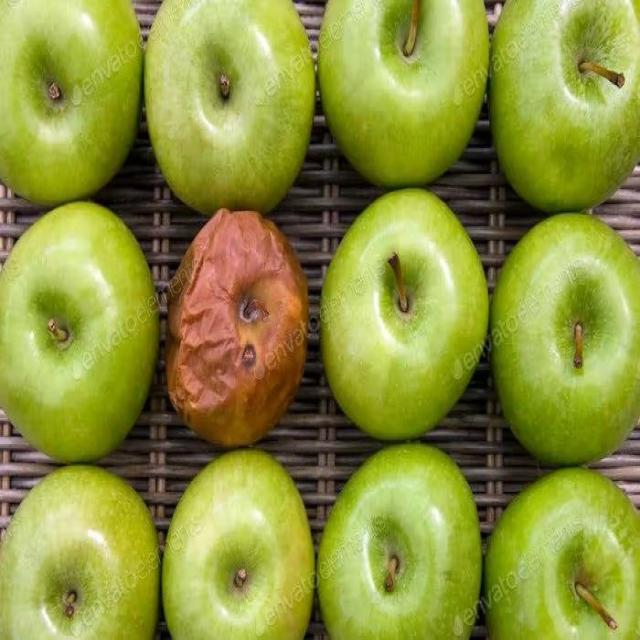Fresh Apple: (5, 213, 167, 455), (333, 203, 492, 425), (495, 217, 640, 458), (150, 0, 323, 191), (321, 0, 493, 183), (0, 470, 175, 635), (321, 466, 485, 640), (0, 0, 143, 198), (505, 0, 635, 201), (493, 471, 640, 639), (182, 465, 312, 640)
Rotten: (167, 218, 303, 445)
